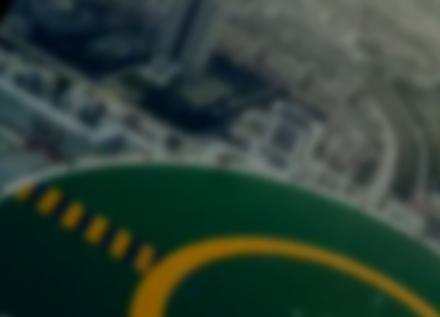Apron: (122, 227, 417, 317)
